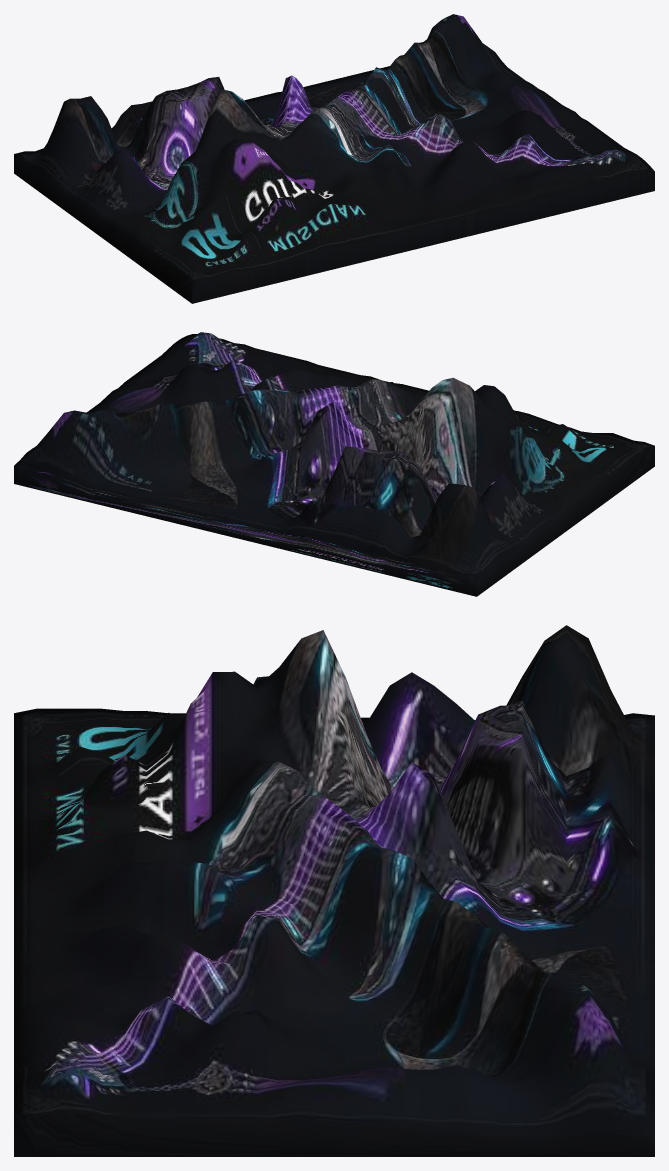
File: CAREER_04_Tool_01_Guitar.glb
The picture shows the model from 3 angles, top to bottom: view 1: azimuth 30°, elevation 25°; view 2: azimuth 150°, elevation 25°; view 3: azimuth 270°, elevation 25°; orthographic projection. The views are drawn at different scales.
Visible parts, largest first — view 1: CAREER_04_Tool_01_Guitar; view 2: CAREER_04_Tool_01_Guitar; view 3: CAREER_04_Tool_01_Guitar.
Boxes of the visible parts, box(x1,y1,x2,y2) form: CAREER_04_Tool_01_Guitar: box(14, 14, 654, 303); CAREER_04_Tool_01_Guitar: box(14, 332, 654, 596); CAREER_04_Tool_01_Guitar: box(14, 625, 654, 1156).
Size of the model in its own units: 2 by 0.51 by 1.33.
1 material, 1 textured.
